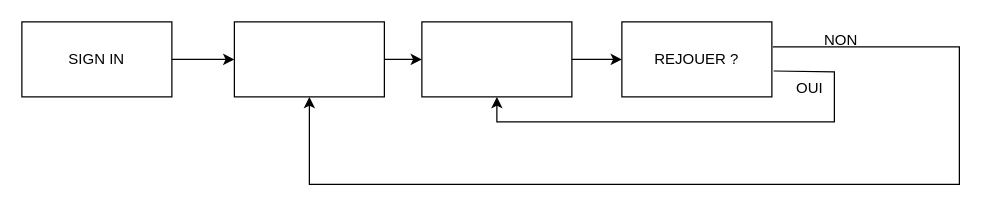
The diagram is 991 pixels wide and 216 high, and some of its shapes have lost their labels. Each missing label, with the box of its shape:
ACCUEIL: (233, 21, 384, 97)
JEU: (421, 21, 572, 97)
